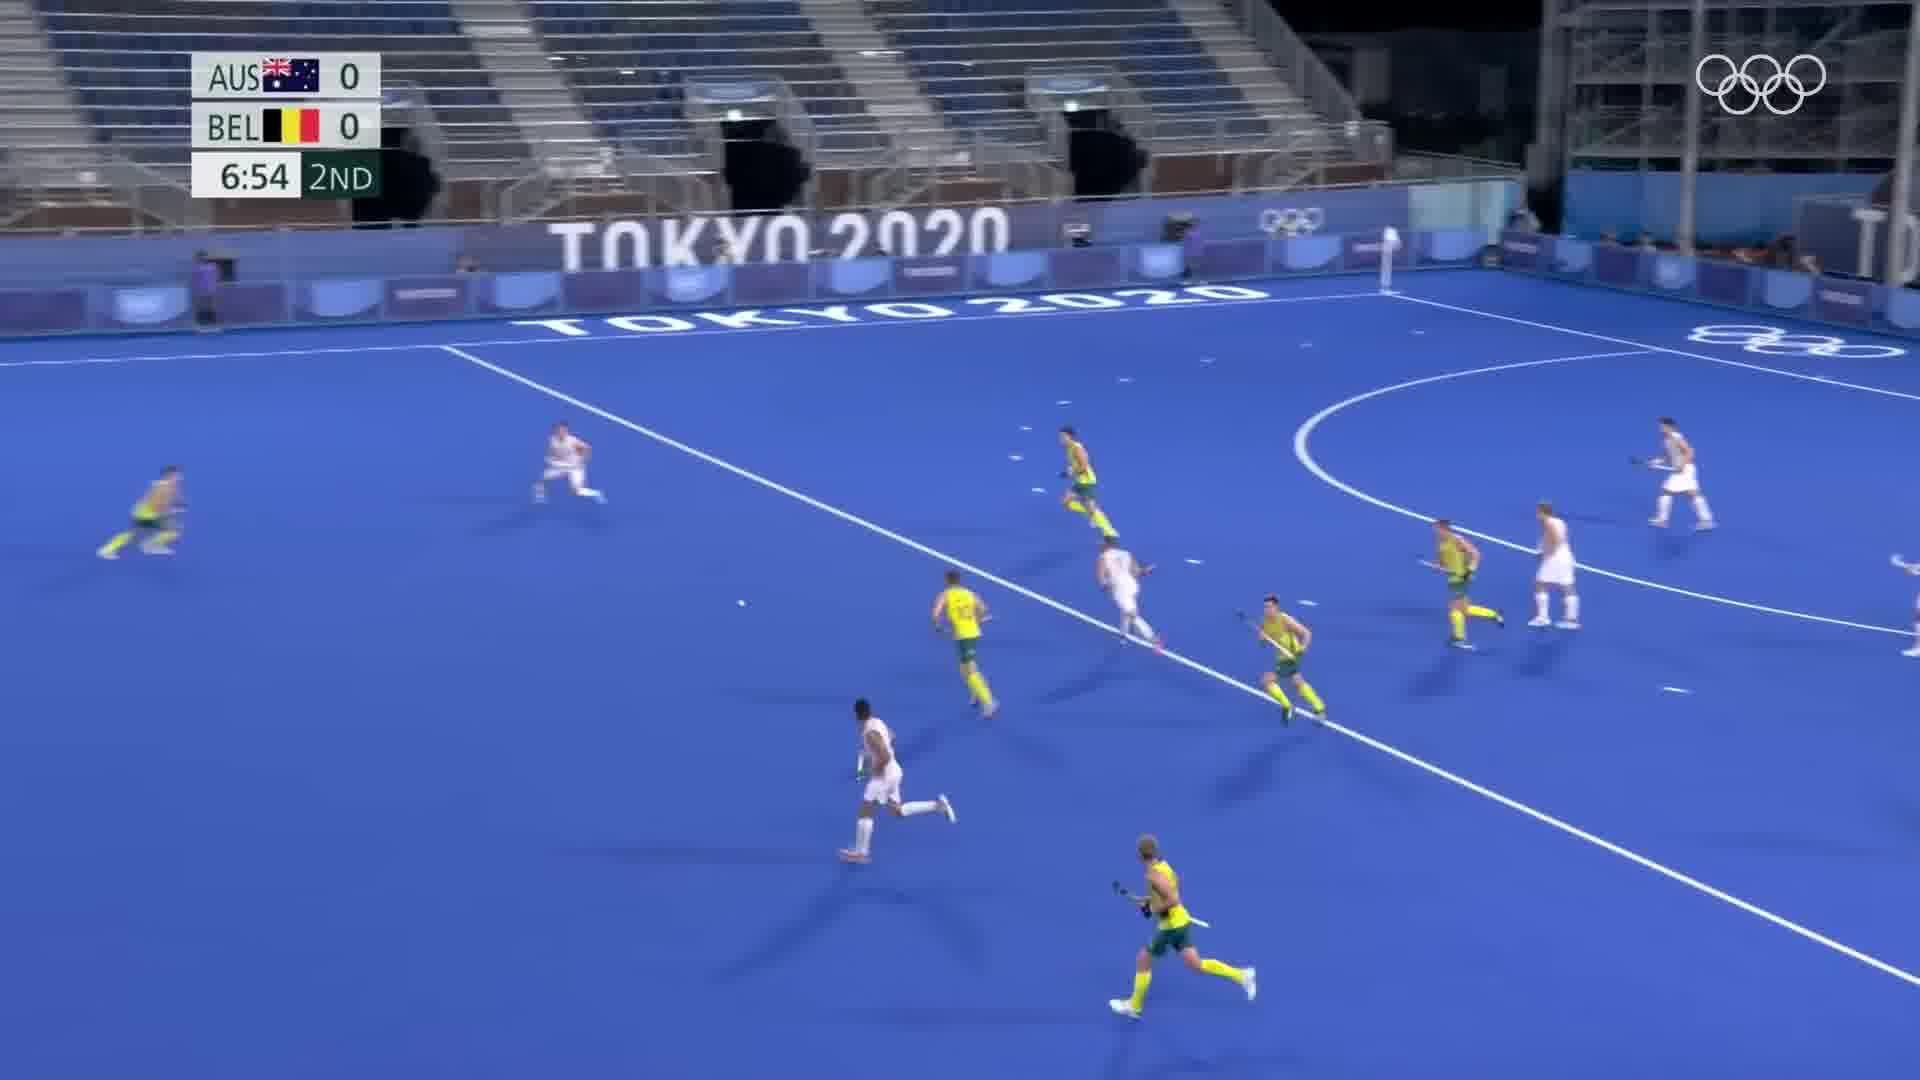ball: (732, 589, 748, 613)
